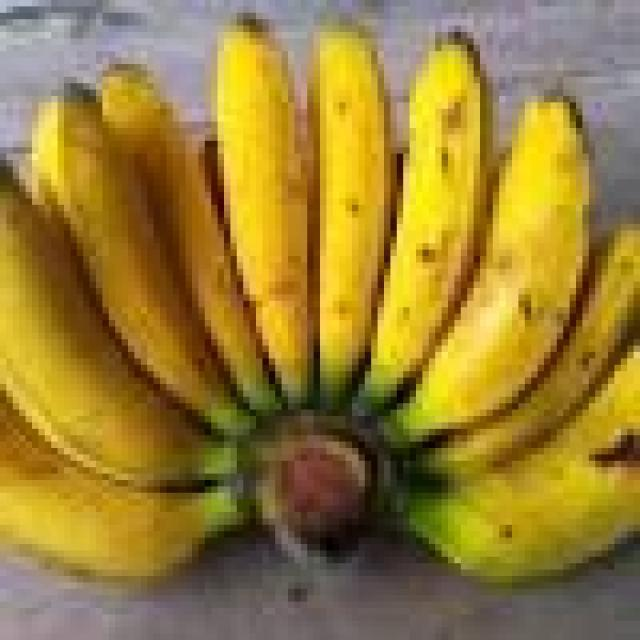Banana: (0, 13, 640, 589), (416, 83, 602, 435), (0, 153, 192, 492), (32, 77, 211, 436), (96, 58, 250, 390), (371, 26, 493, 403), (211, 12, 314, 410), (314, 12, 391, 410)
